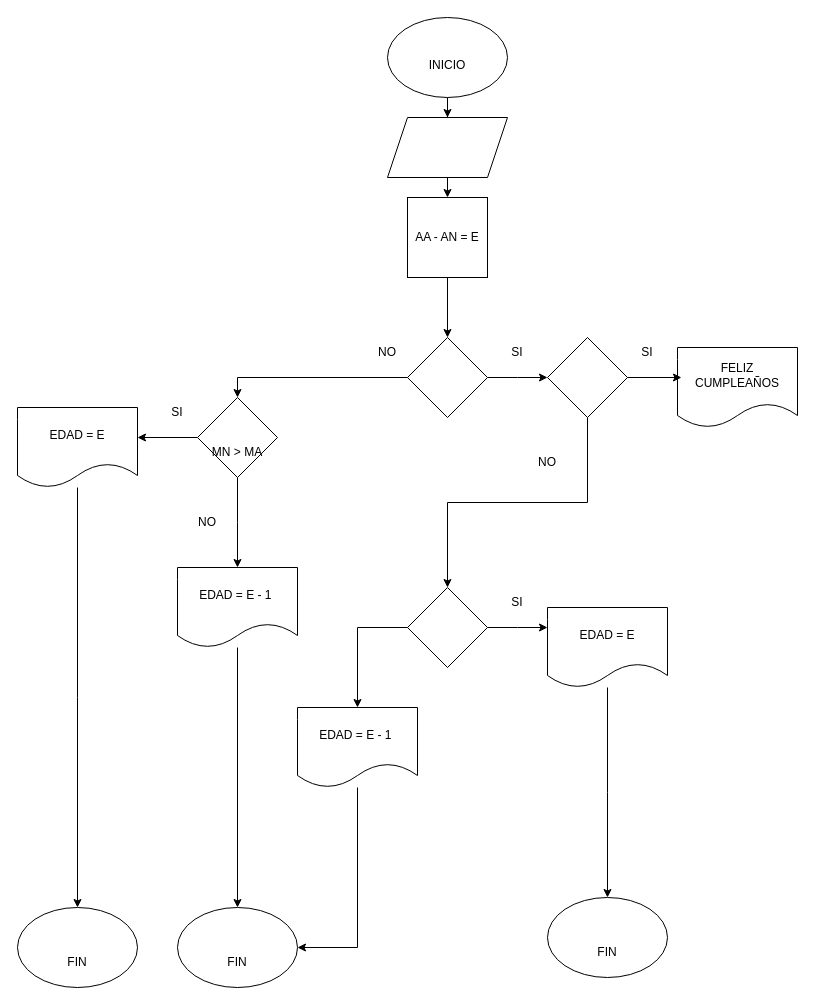
Image size: 815x1005. Some labels were removed from this diagram. Here are the shapes that lost their labels. From the top down, the centre of each, then its label:
At (x=447, y=147): "AN, MN, DN, AA, MA, DA".
At (x=447, y=377): "MA = MN".
At (x=587, y=377): "DA = DN".
At (x=447, y=627): "DN > DA".
